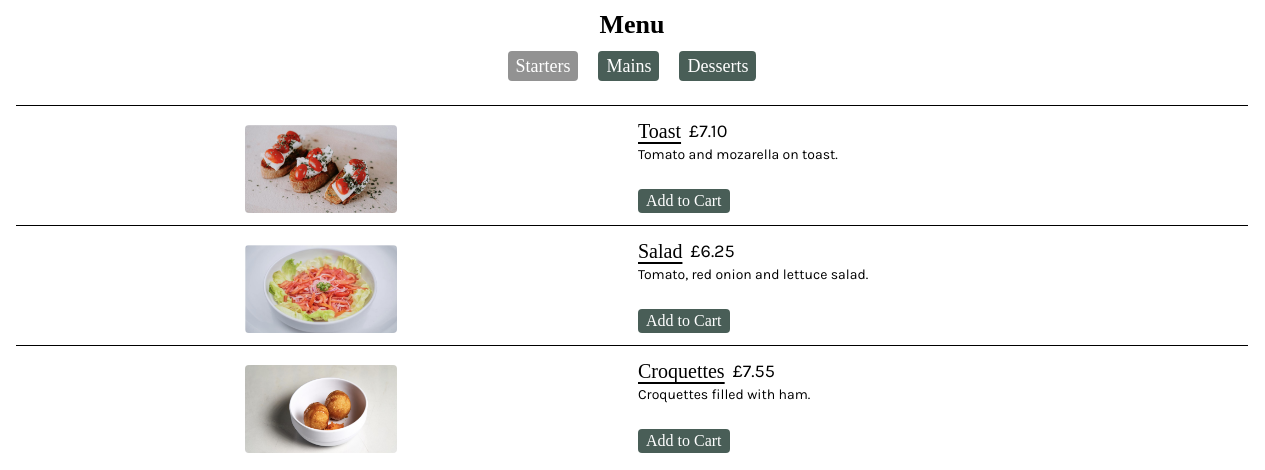
Test: Menu › correctly displays, when the desserts need to be displayed.
The width and height of the screenshot is (1265, 470).
Click the button "Desserts": (718, 66) [680,51,756,81]
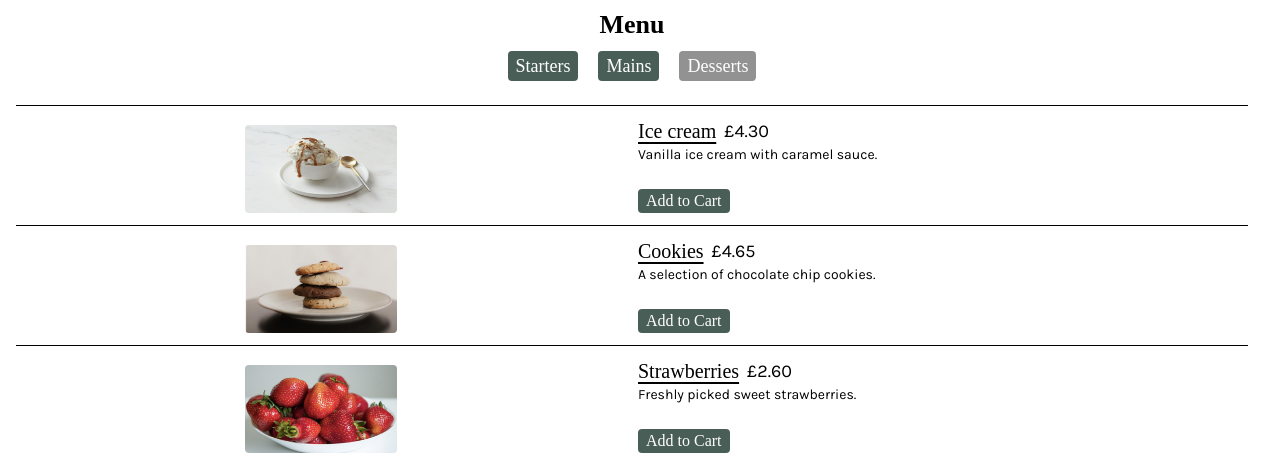
Result: the button "Starters" is enabled at [508,51,578,81]
Result: the button "Desserts" is disabled at [680,51,756,81]
Result: the heading "Ice cream" is shown at [638,117,716,145]
